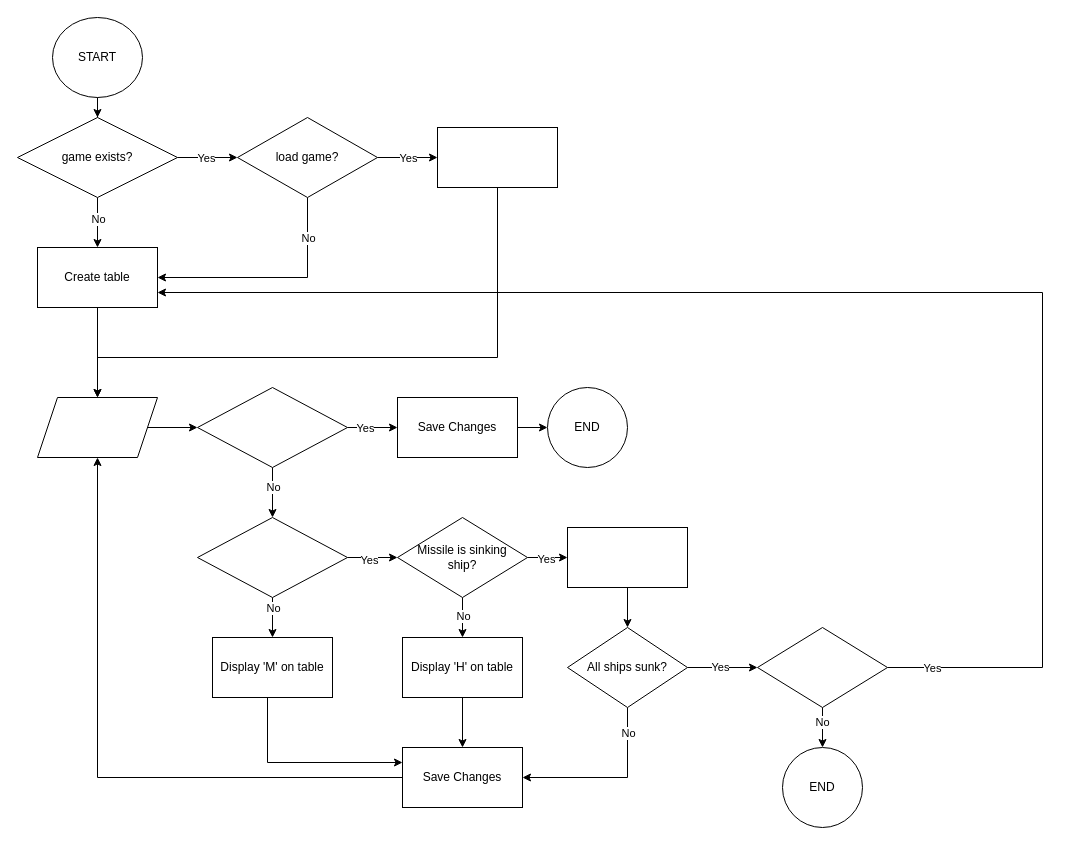
Some shapes in this 1068 by 845 pixel diagram are drawn without their labels. Each missing label, with the centre of its shape:
"coordinates = QQ?" belongs at point (272, 427).
"Display ship on table with ship initial" belongs at point (627, 557).
"Missile hit?" belongs at point (272, 557).
"Receive missile coordinates" belongs at point (97, 427).
"Retrieve table from file" belongs at point (497, 157).
"Start new game?" belongs at point (822, 667).
